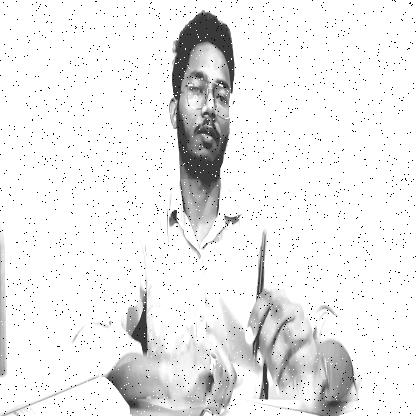Normal: (168, 7, 241, 179)
